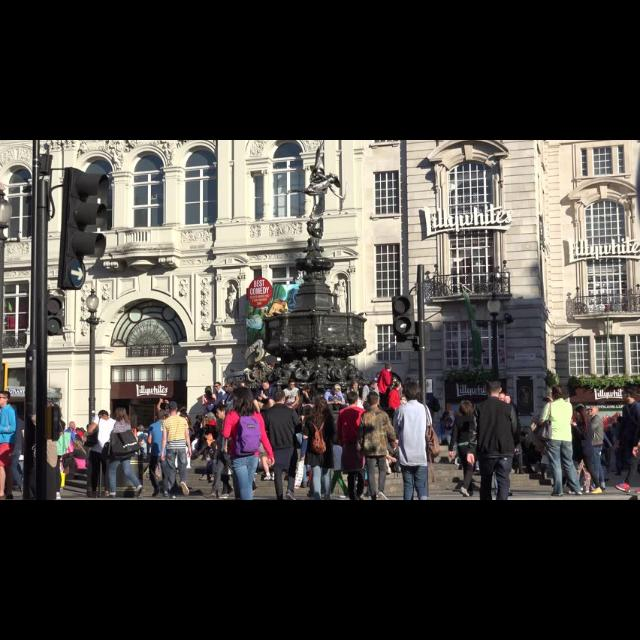head: (235, 386, 255, 409), (486, 378, 504, 398), (404, 383, 420, 401), (552, 384, 566, 402), (215, 405, 229, 421), (274, 390, 288, 406), (346, 391, 360, 407), (461, 402, 474, 418), (622, 389, 636, 403), (0, 392, 12, 408), (368, 393, 380, 407), (263, 400, 275, 414), (331, 397, 343, 409), (168, 401, 178, 415), (316, 398, 326, 412), (98, 411, 110, 422), (115, 410, 126, 420), (590, 407, 600, 418), (589, 407, 599, 418), (390, 438, 400, 449), (8, 407, 18, 417), (157, 412, 167, 422), (261, 382, 271, 392), (304, 384, 314, 394), (332, 386, 342, 396), (351, 380, 361, 390), (370, 380, 380, 390), (214, 382, 222, 392), (288, 381, 296, 391), (391, 379, 399, 389), (203, 418, 211, 427), (394, 382, 402, 391), (70, 423, 78, 431), (183, 417, 191, 425), (163, 399, 171, 407), (205, 387, 213, 395), (180, 408, 188, 416), (385, 364, 393, 372)
person: (538, 383, 584, 499), (200, 403, 250, 501), (447, 399, 487, 498), (319, 394, 355, 500), (564, 404, 604, 496), (2, 403, 28, 495), (146, 408, 172, 500), (582, 403, 608, 495), (173, 414, 195, 476), (192, 411, 218, 463), (322, 384, 352, 428), (156, 397, 174, 465), (60, 420, 80, 480), (258, 428, 280, 482), (386, 379, 406, 438), (280, 379, 304, 423), (200, 385, 220, 437), (172, 406, 192, 458), (253, 381, 279, 421), (380, 438, 406, 478), (376, 361, 394, 417), (300, 382, 322, 426), (385, 378, 407, 420), (212, 382, 228, 436), (360, 379, 382, 417), (341, 379, 361, 418)
